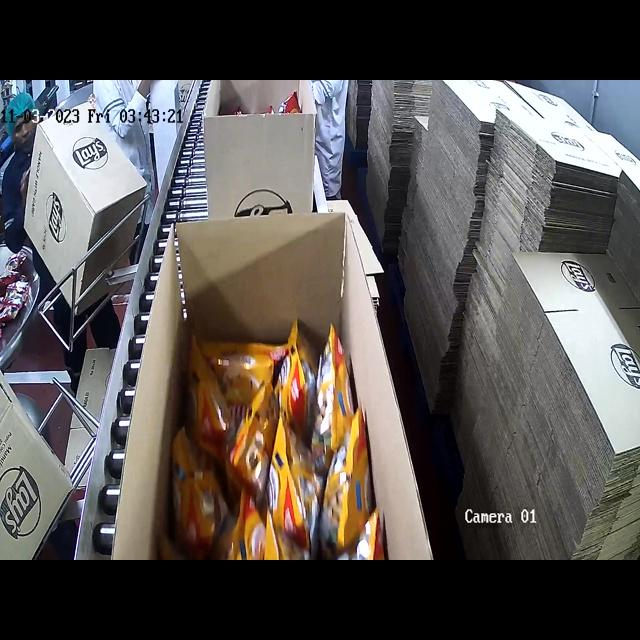cheese: (188, 319, 368, 560)
masala: (216, 101, 309, 118)
